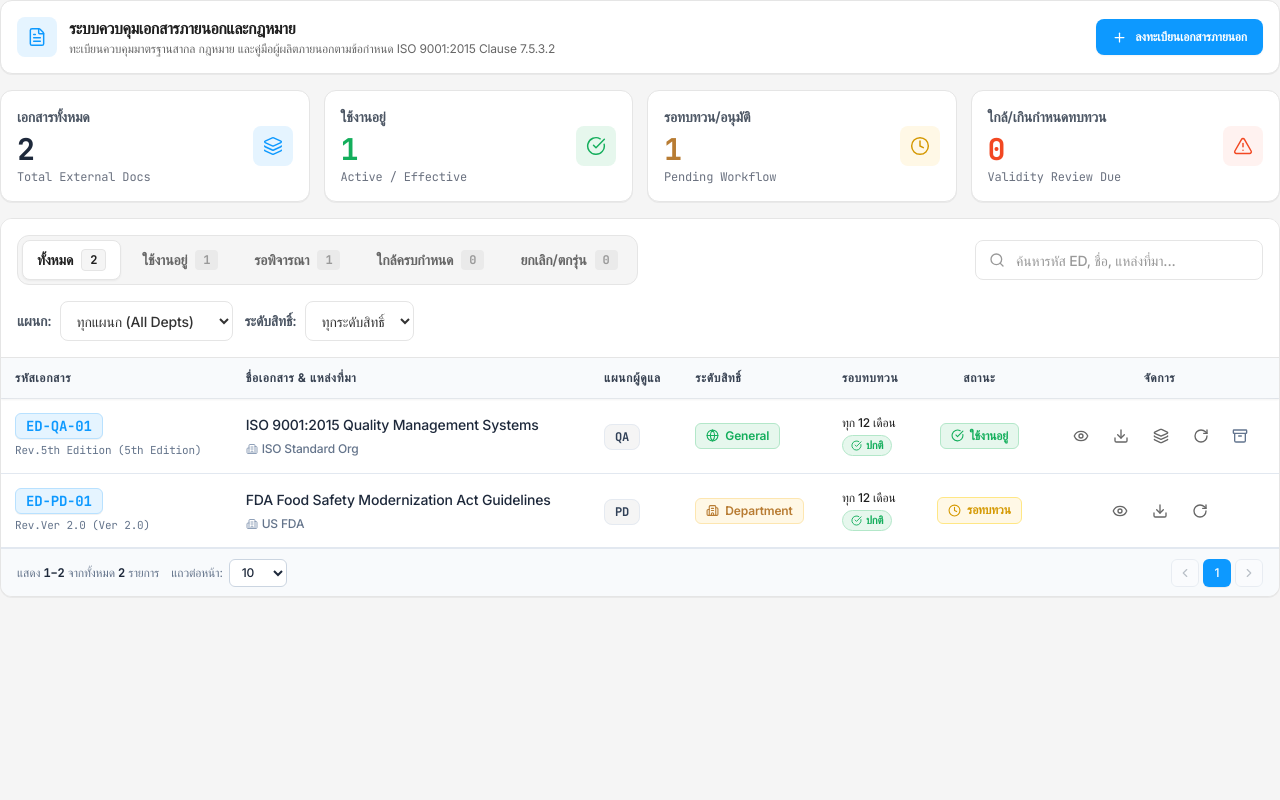
ExternalDocsList Full-Width Layout & Component Structure Tests › 4. Header button "ลงทะเบียนเอกสารภายนอก" opens registration modal
Click the button "ลงทะเบียนเอกสารภายนอก": coordinates (1180, 37) [1096, 19, 1263, 55]
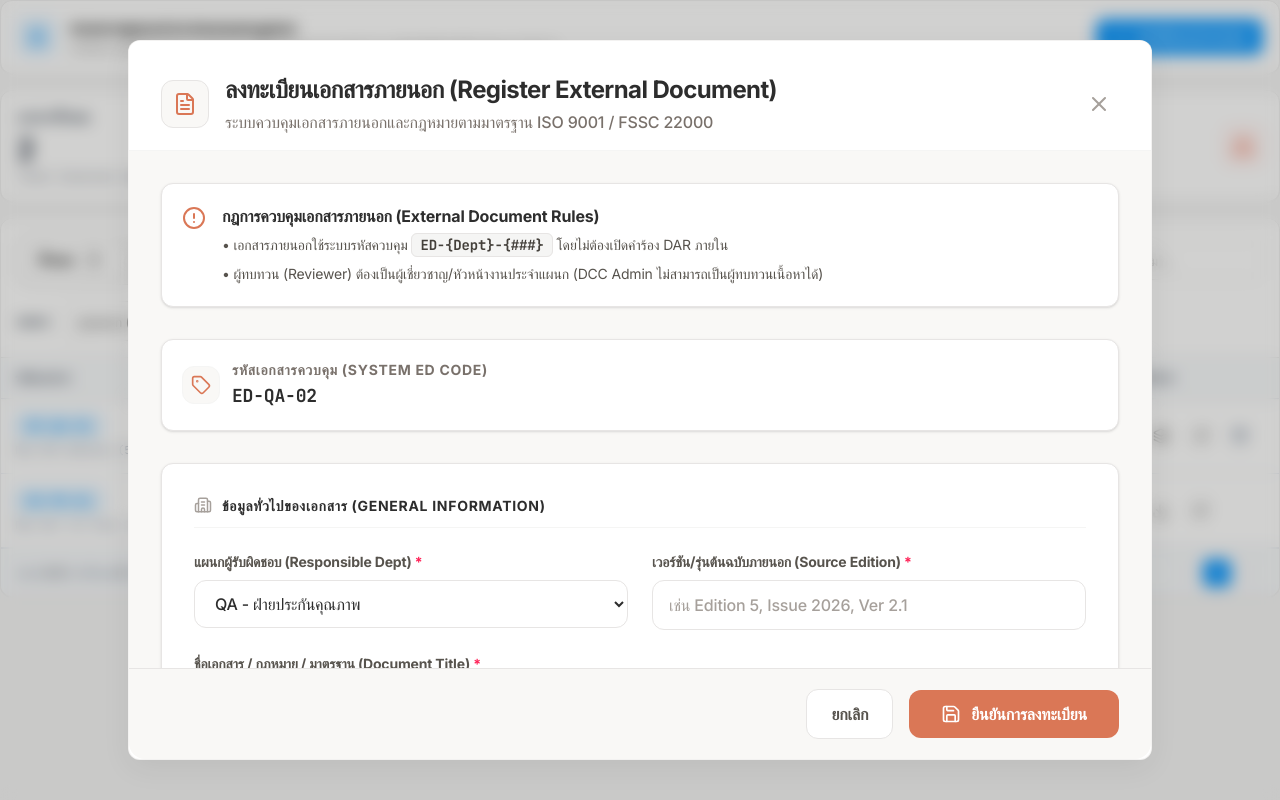
Expected: the heading "ลงทะเบียนเอกสารภายนอก (Register External Document)" is shown, [225, 73, 777, 106]
